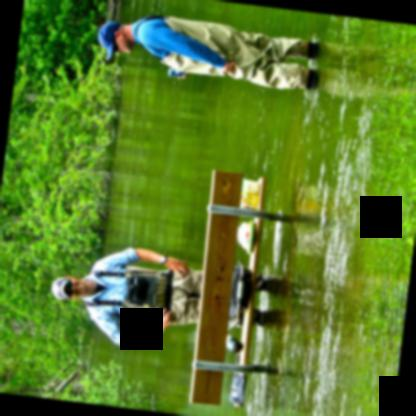backpack: (90, 264, 172, 317)
